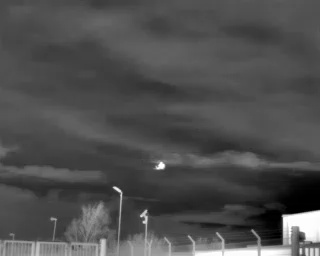HELICOPTER: (150, 156, 173, 176)
